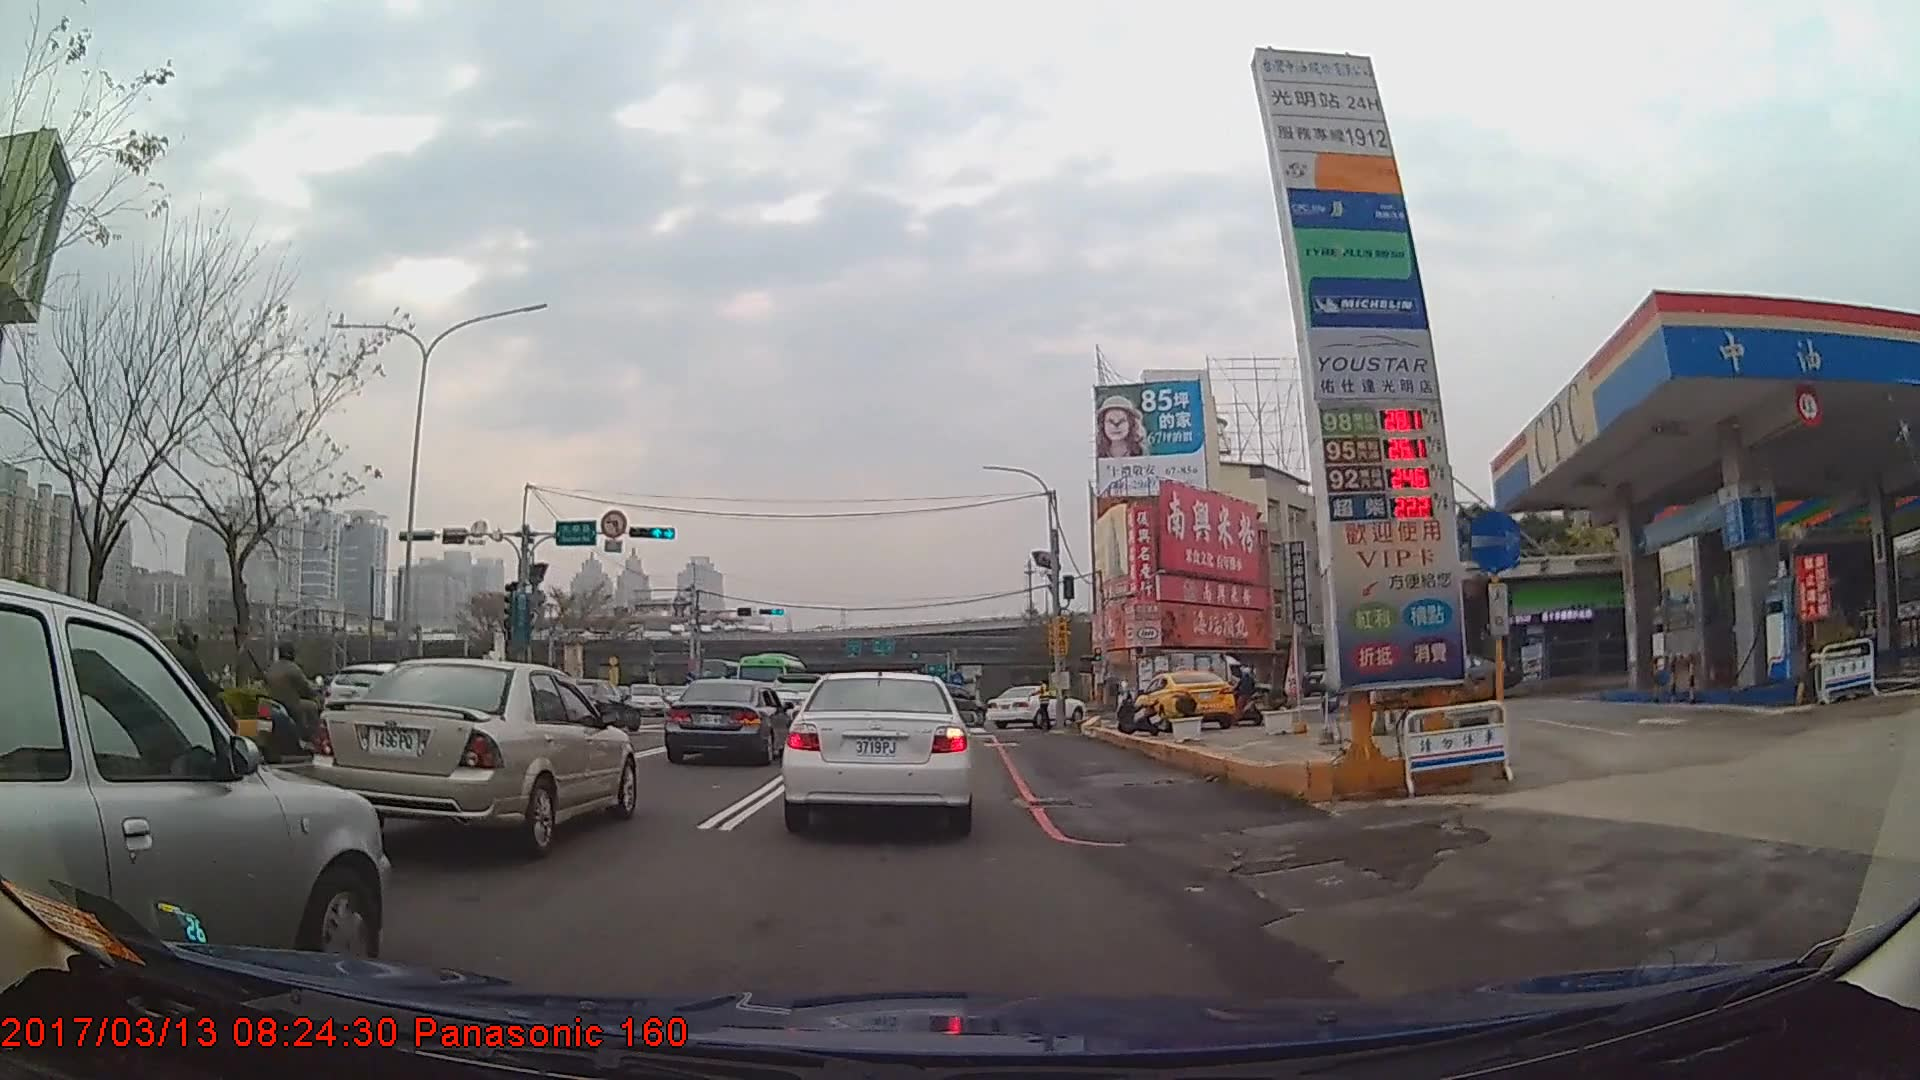pedestrian: (1027, 678, 1053, 733)
rider: (150, 625, 240, 780), (253, 641, 329, 765), (1330, 657, 1373, 718), (1228, 667, 1267, 729)
vehicle: (0, 577, 389, 993), (313, 658, 638, 858), (784, 667, 974, 833), (664, 677, 792, 765), (1132, 647, 1247, 713), (1137, 669, 1241, 730), (547, 677, 640, 731), (983, 682, 1085, 729), (734, 651, 809, 709)
